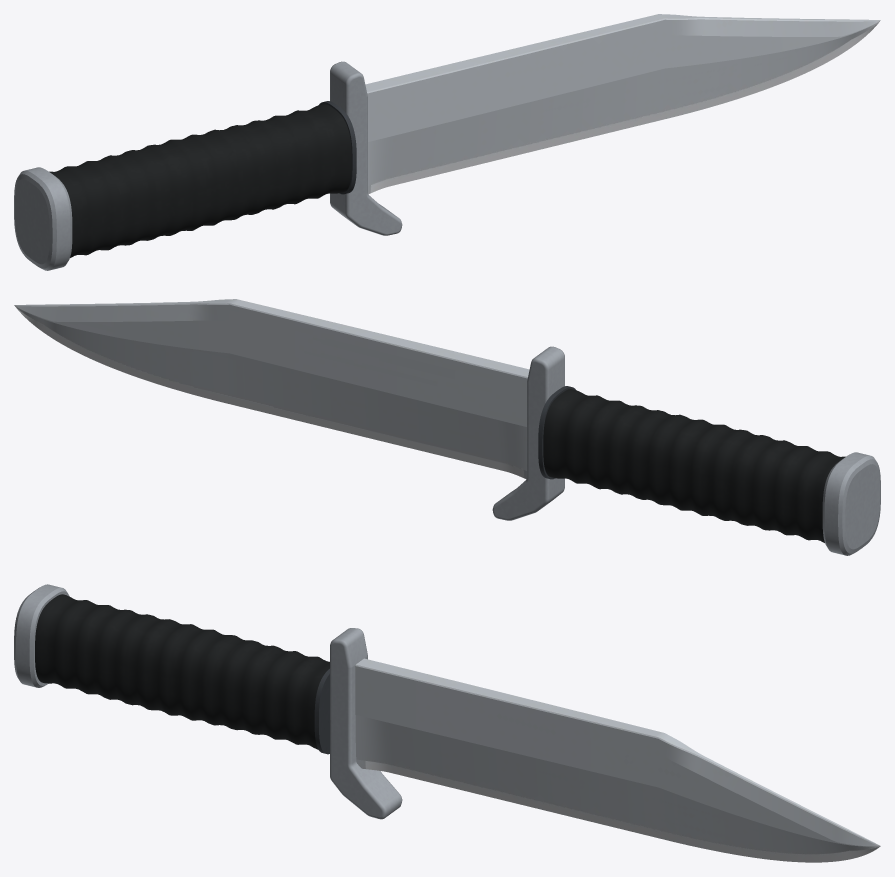
File: classic.glb
The picture shows the model from 3 angles, top to bottom: view 1: azimuth 30°, elevation 25°; view 2: azimuth 150°, elevation 25°; view 3: azimuth 330°, elevation 25°; orthographic projection.
Visible parts, largest first — view 1: body; view 2: body; view 3: body.
Boxes of the visible parts, <box> form: body: <box>14,14,880,270</box>; body: <box>14,299,880,555</box>; body: <box>14,584,880,862</box>.
Size of the model in its own units: 0.325 by 0.0623 by 0.0271.
5 materials, 5 textured.
